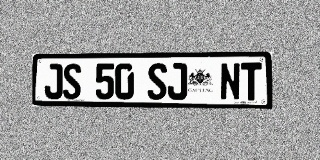0: (115, 63, 134, 100)
5: (96, 63, 114, 99)
J: (168, 63, 187, 100), (45, 64, 62, 99)
N: (220, 63, 240, 100)
S: (148, 63, 167, 100), (63, 64, 81, 99)
T: (241, 62, 262, 101)
